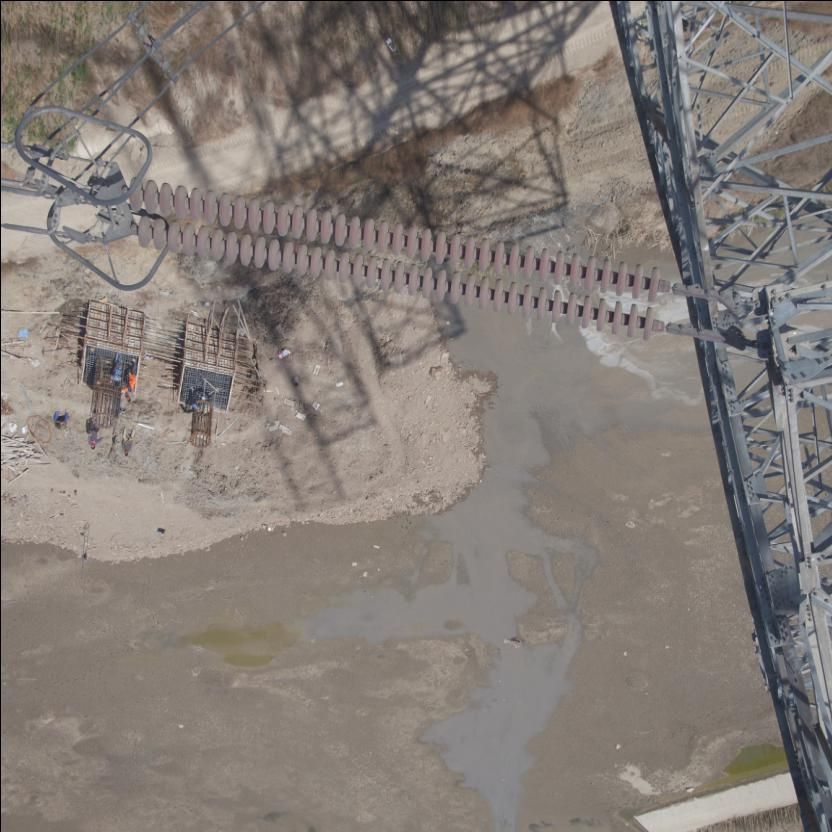insulator: (114, 171, 712, 350)
